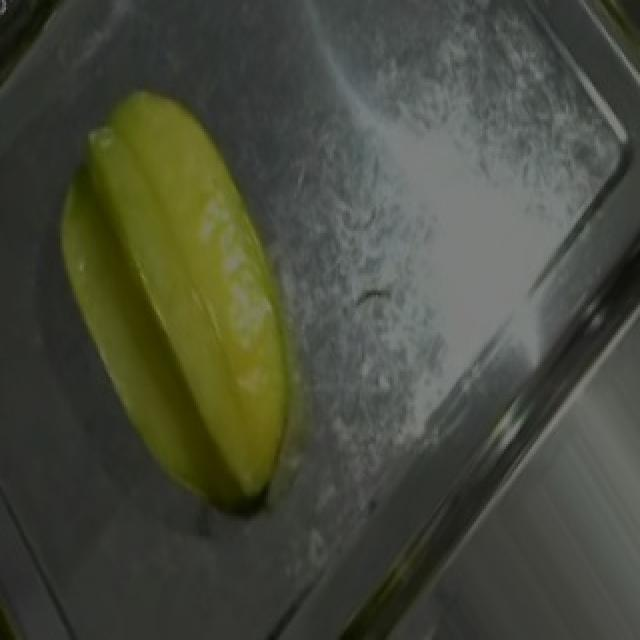fruit: (46, 62, 370, 499)
